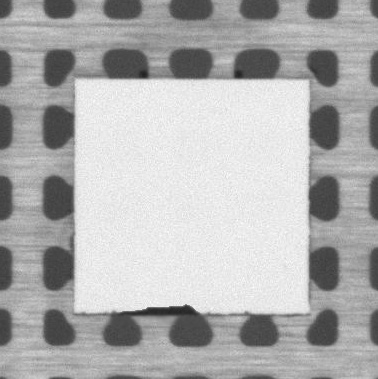DIE_BROKEN: (115, 299, 204, 317)
